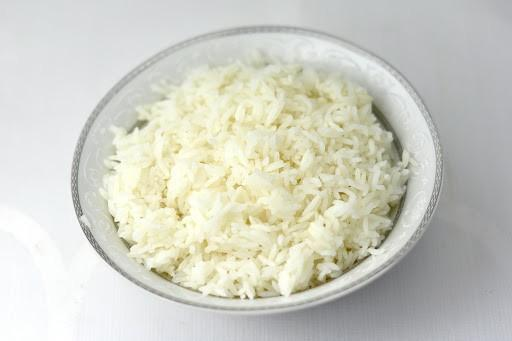WhiteRice: (100, 62, 412, 298)
